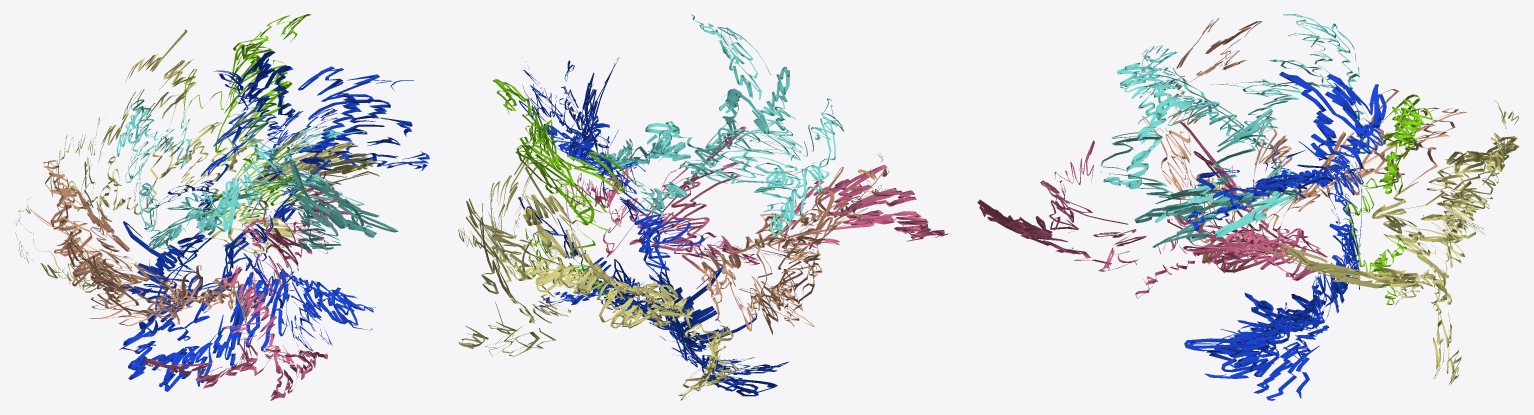
3 renders of one model, left to right at view 1: azimuth 30°, elevation 25°; view 2: azimuth 150°, elevation 25°; view 3: azimuth 270°, elevation 25°, orthographic. The views are drawn at different scales.
Size of the model in its own units: 1.53 by 1.2 by 1.86.
